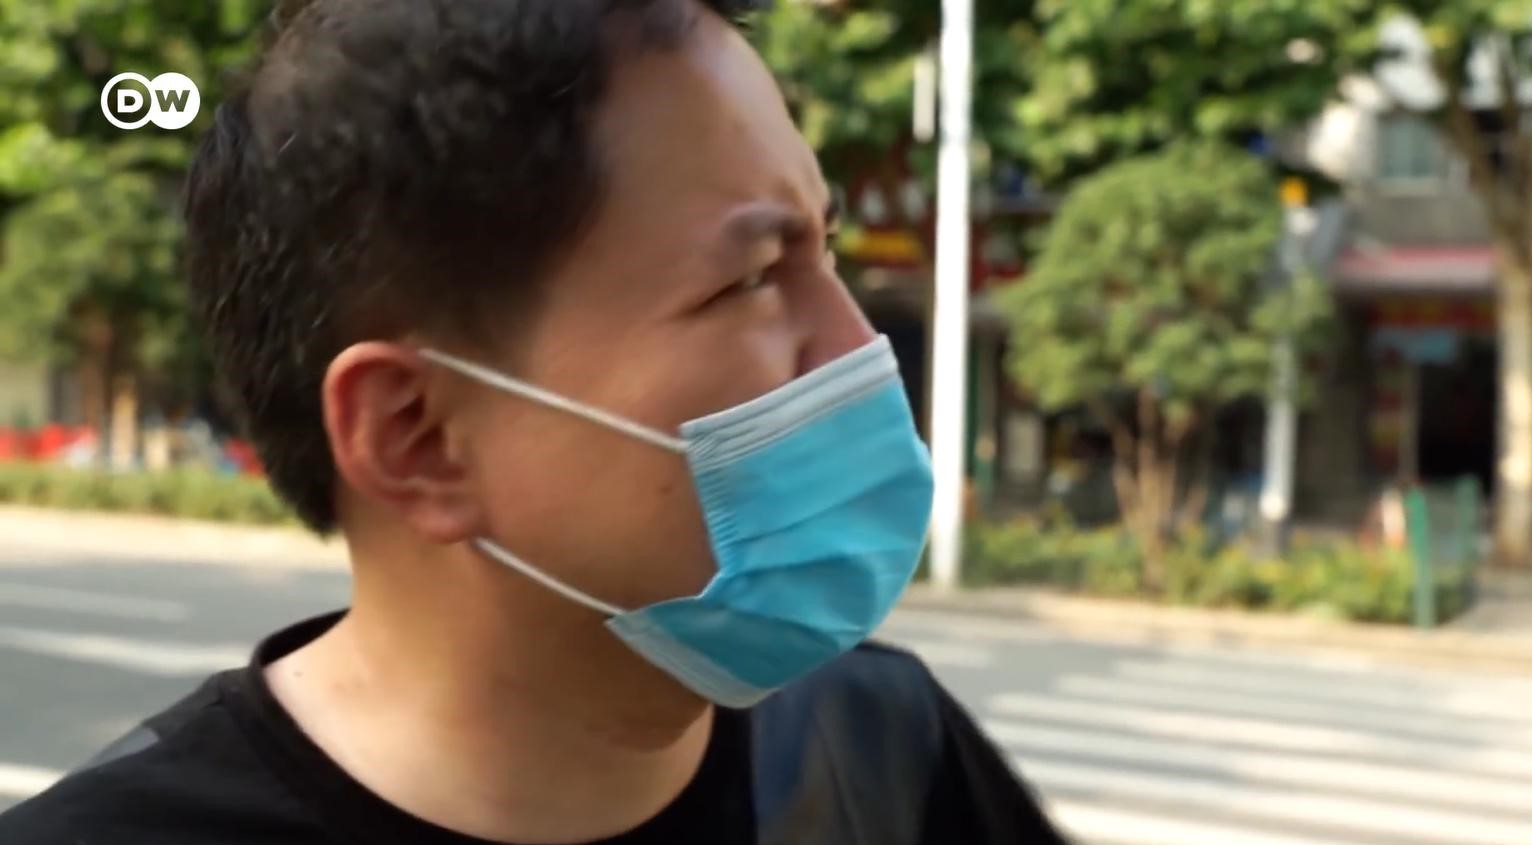with_mask: (551, 196, 848, 656)
